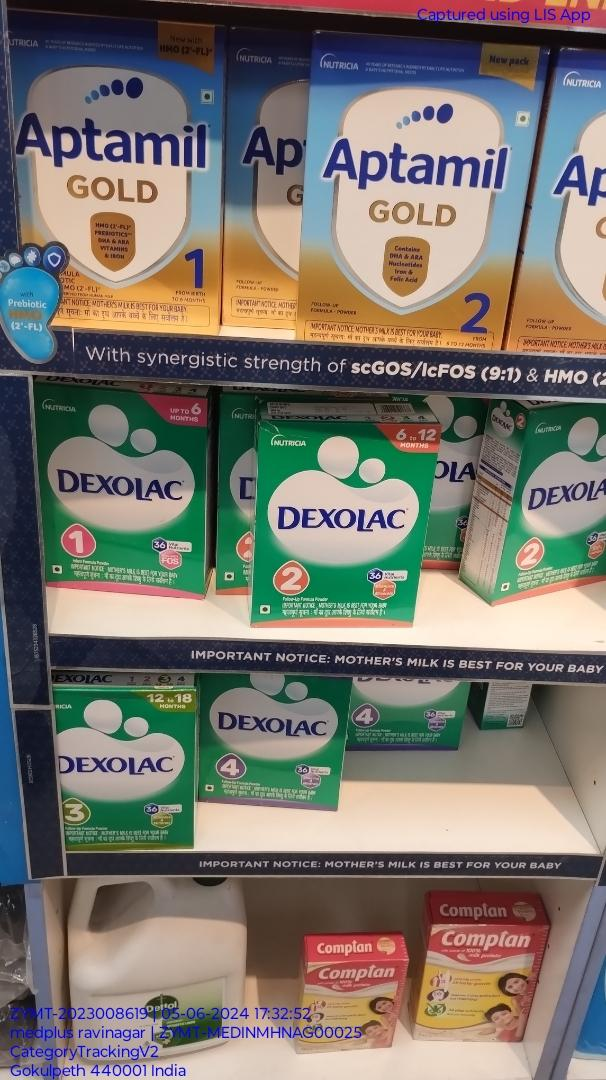COMPLAN_KESAR_BADAM_200_GMS_PACK: (303, 958, 403, 1058)
COMPLAN_KESAR_BADAM_500_GMS_PACK: (419, 921, 542, 1043)
